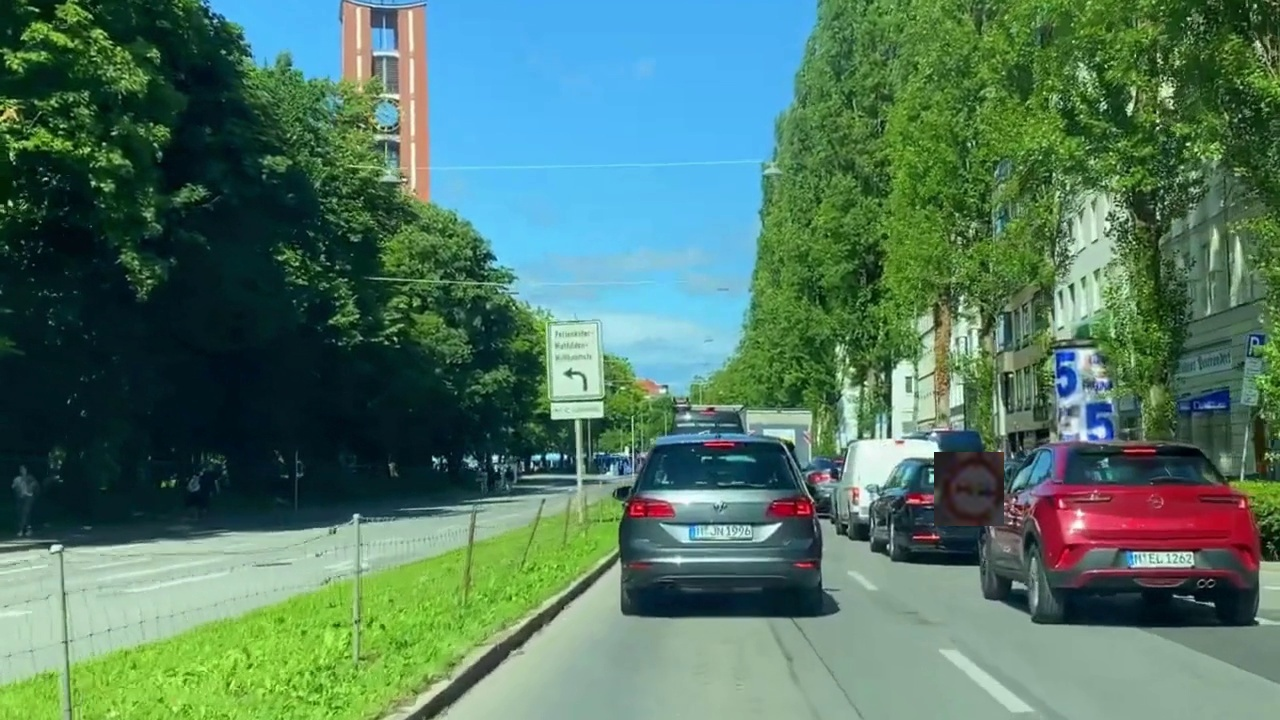No passing: (934, 452, 1004, 526)
